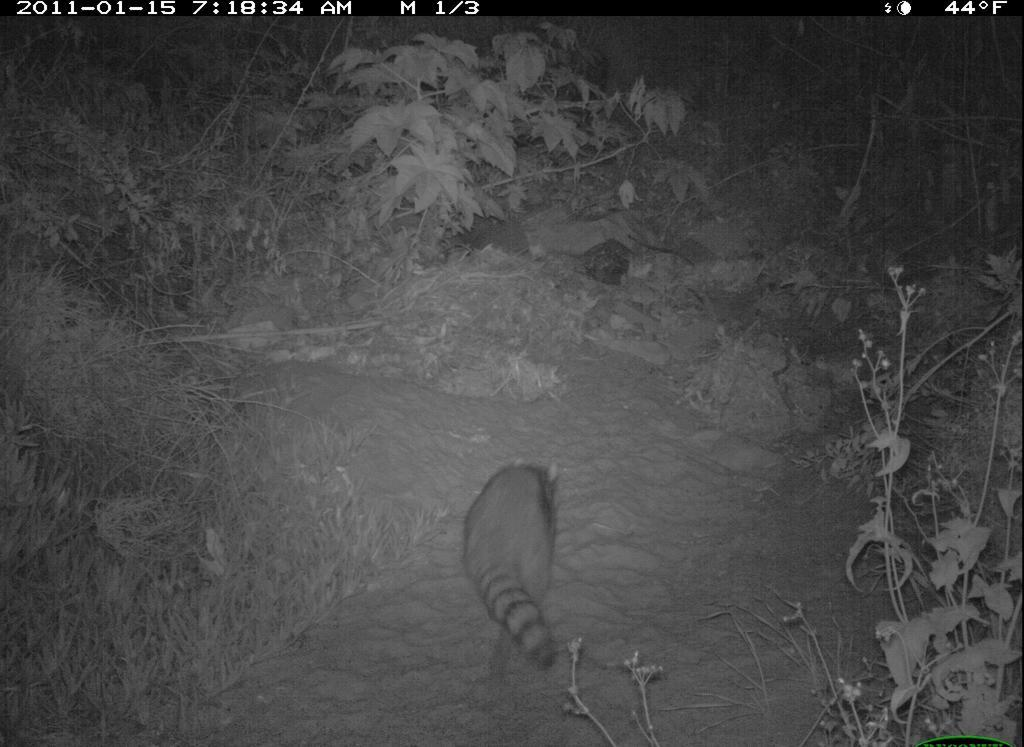raccoon: (437, 453, 596, 676)
